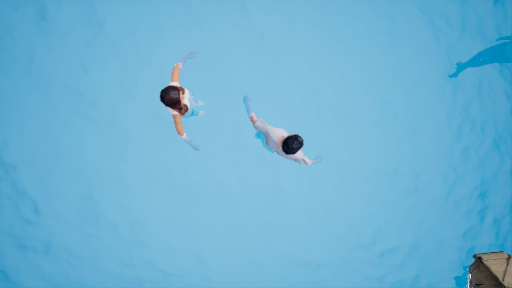person: (160, 45, 213, 152), (238, 99, 311, 171)
